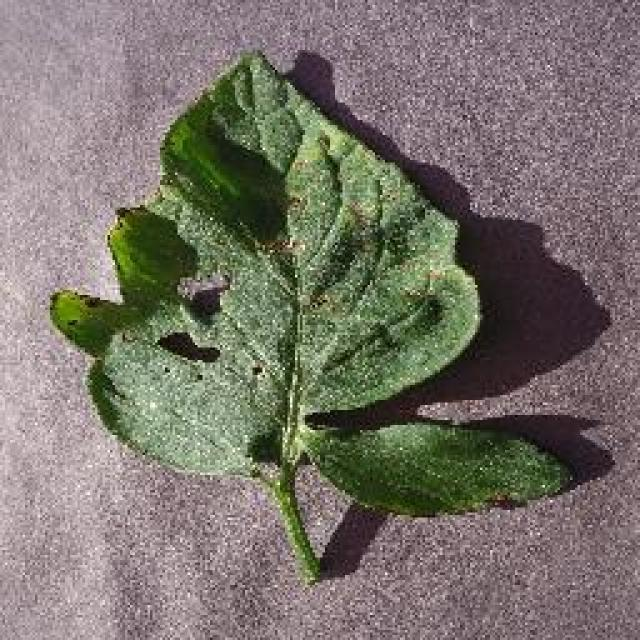Tom_Target_Spot: (244, 155, 451, 337), (134, 236, 241, 372)
